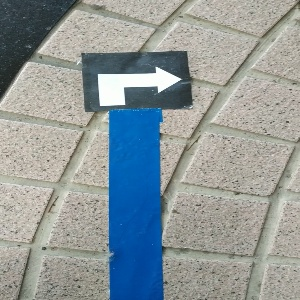right: (80, 53, 192, 109)
